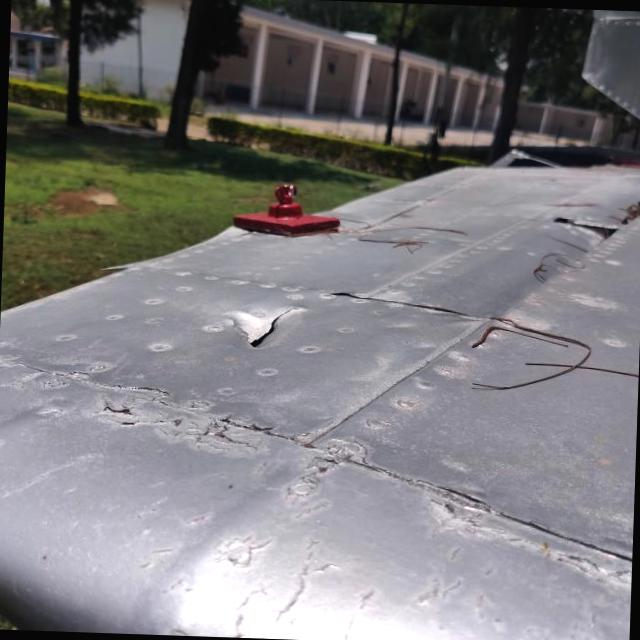crack: (216, 295, 310, 357)
